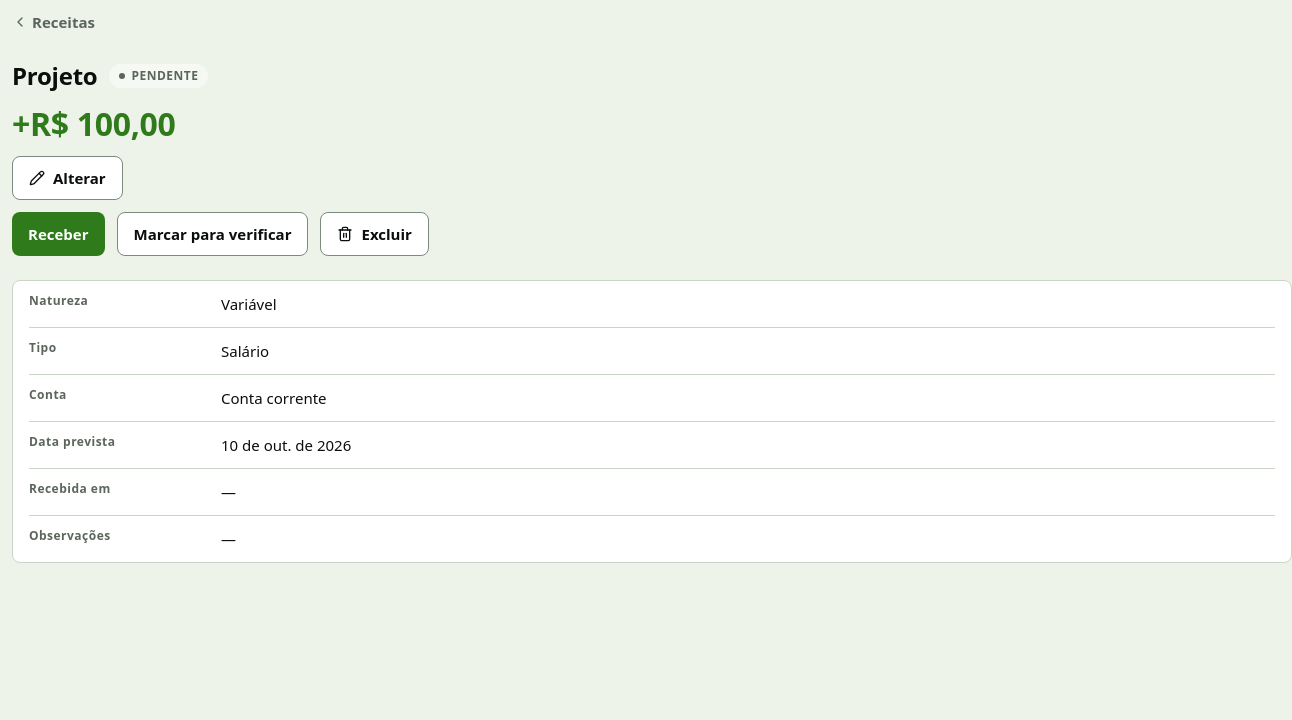
Test: EarningActions (spec 0014) › OPEN → Marcar para verificar sends only the status
Expected: the heading "Projeto" is shown, [12,60,98,92]
What coordinates should you click on to do the following:
click the button "Marcar para verificar"
I would click on:
 (212, 234)
Its box is [116,212,308,256].
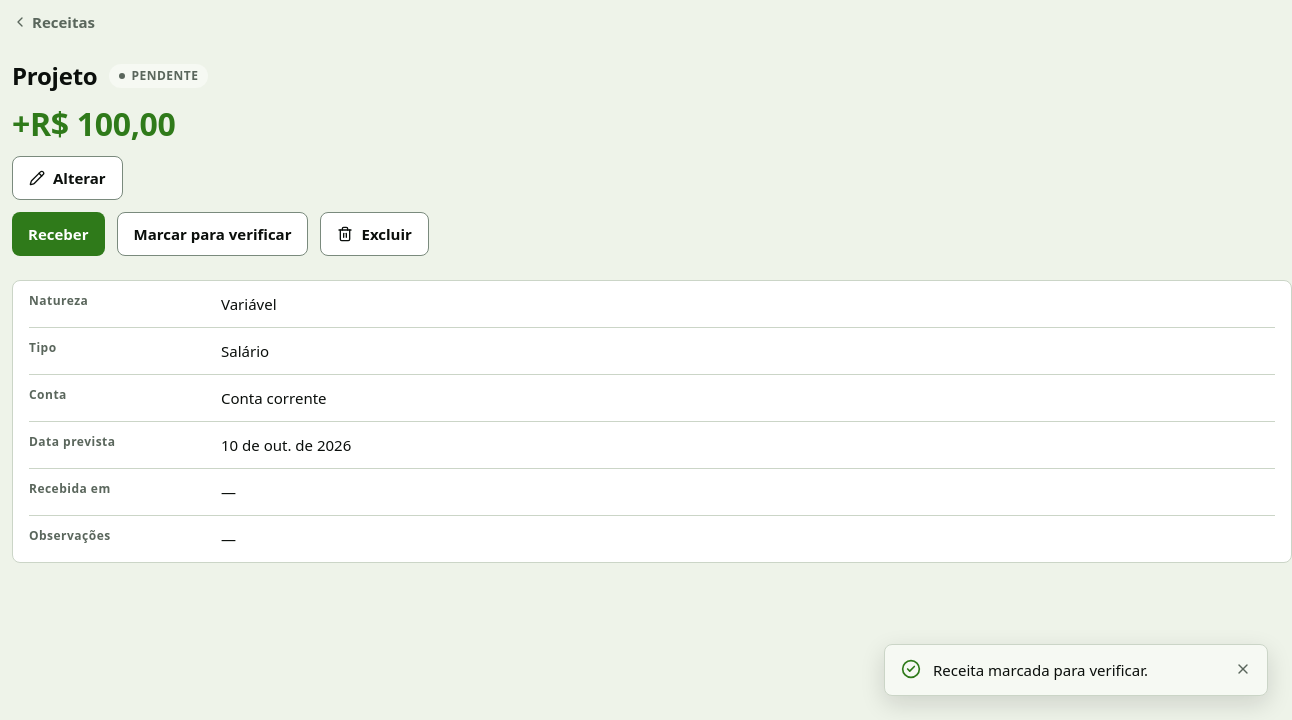
Now the text "Receita marcada para verificar." is shown, box [933,660,1148,680]
